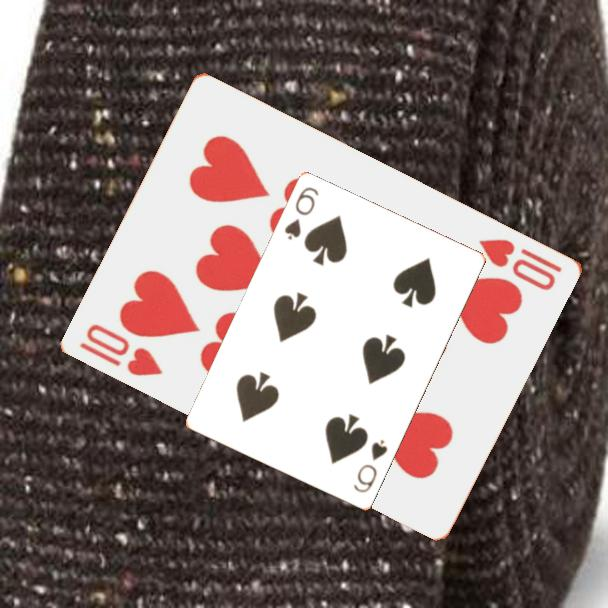h10: (475, 235, 565, 294), (76, 320, 166, 379)
s06: (281, 184, 322, 244), (350, 437, 391, 496)
